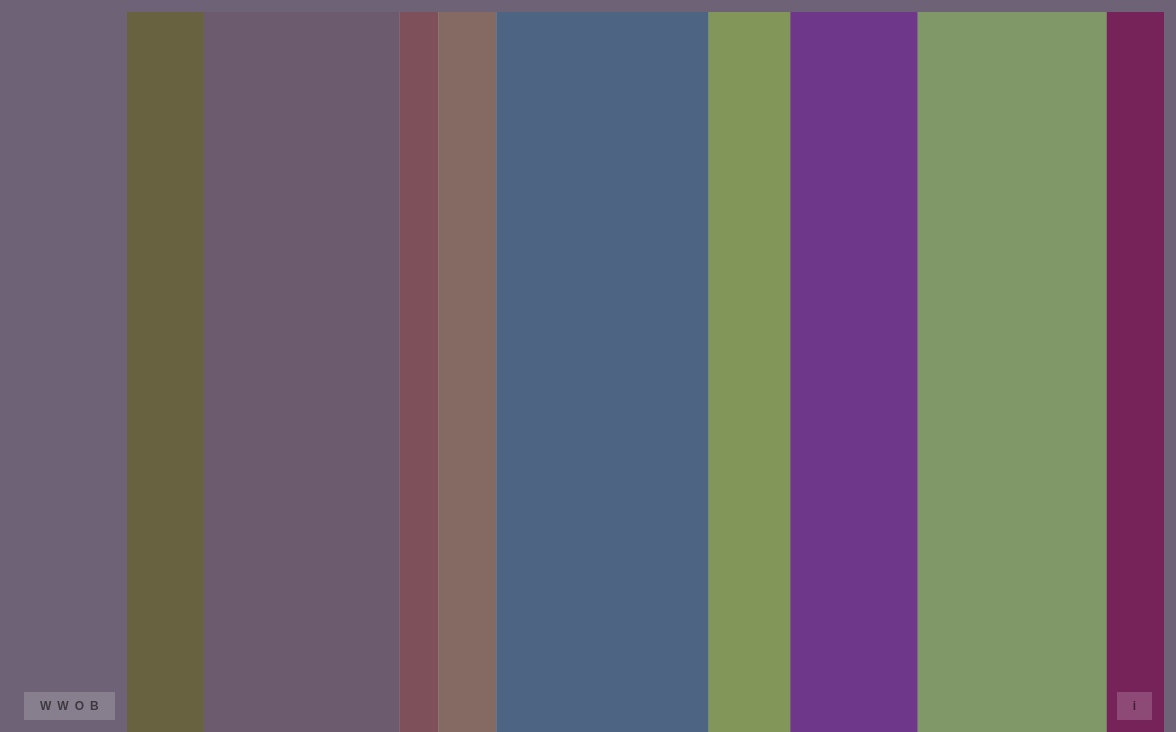
reader app › shows only a run when a show has no tour
Click the button "i": point(1134, 706) [1117, 692, 1152, 720]
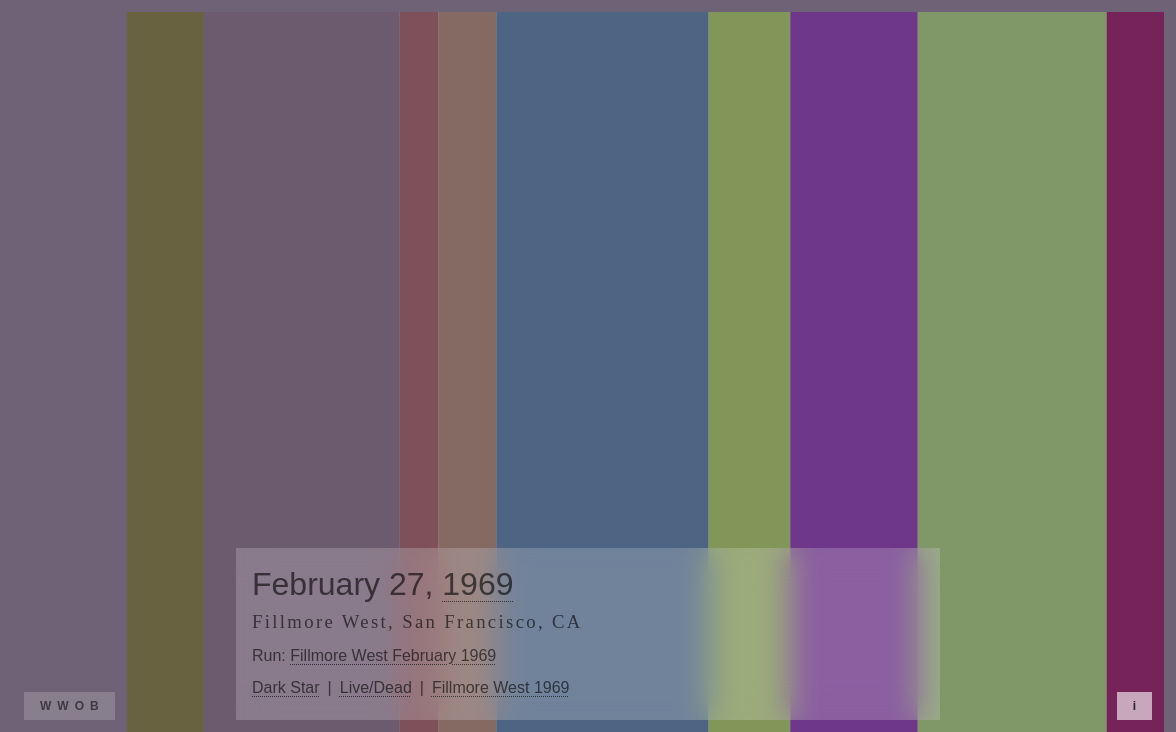
Expected: the element with class "Show-meta" reads "Run: Fillmore West February 1969", [252, 647, 496, 664]
